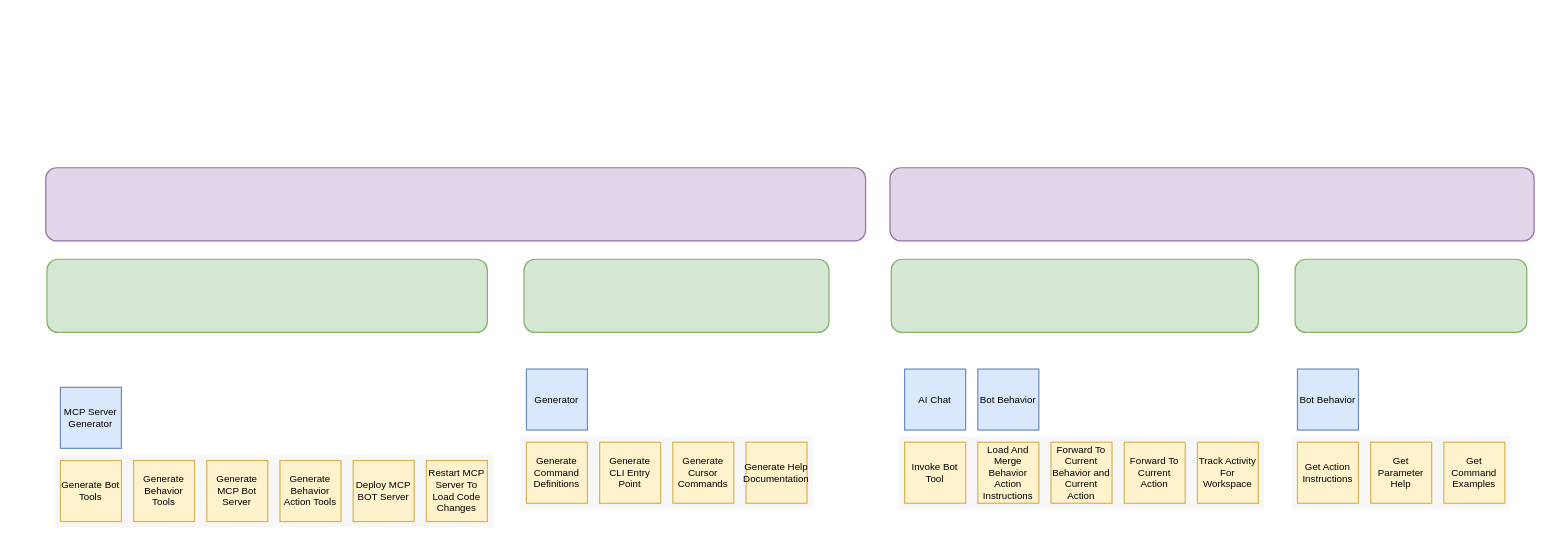
Image size: 1556x549. Some labels were removed from this diagram. The shapes that lost their labels are listed below. From the top down, each one's centre as x and y in pixels, then its label:
the point at 455,204: Build Agile Bots
the point at 1211,204: Invoke Bot
the point at 266,295: Generate MCP Tools
the point at 676,295: Generate CLI
the point at 1074,295: Invoke MCP
the point at 1410,295: Get Help
